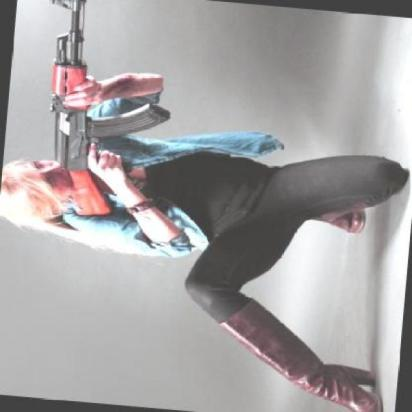Gun: (34, 0, 180, 222)
